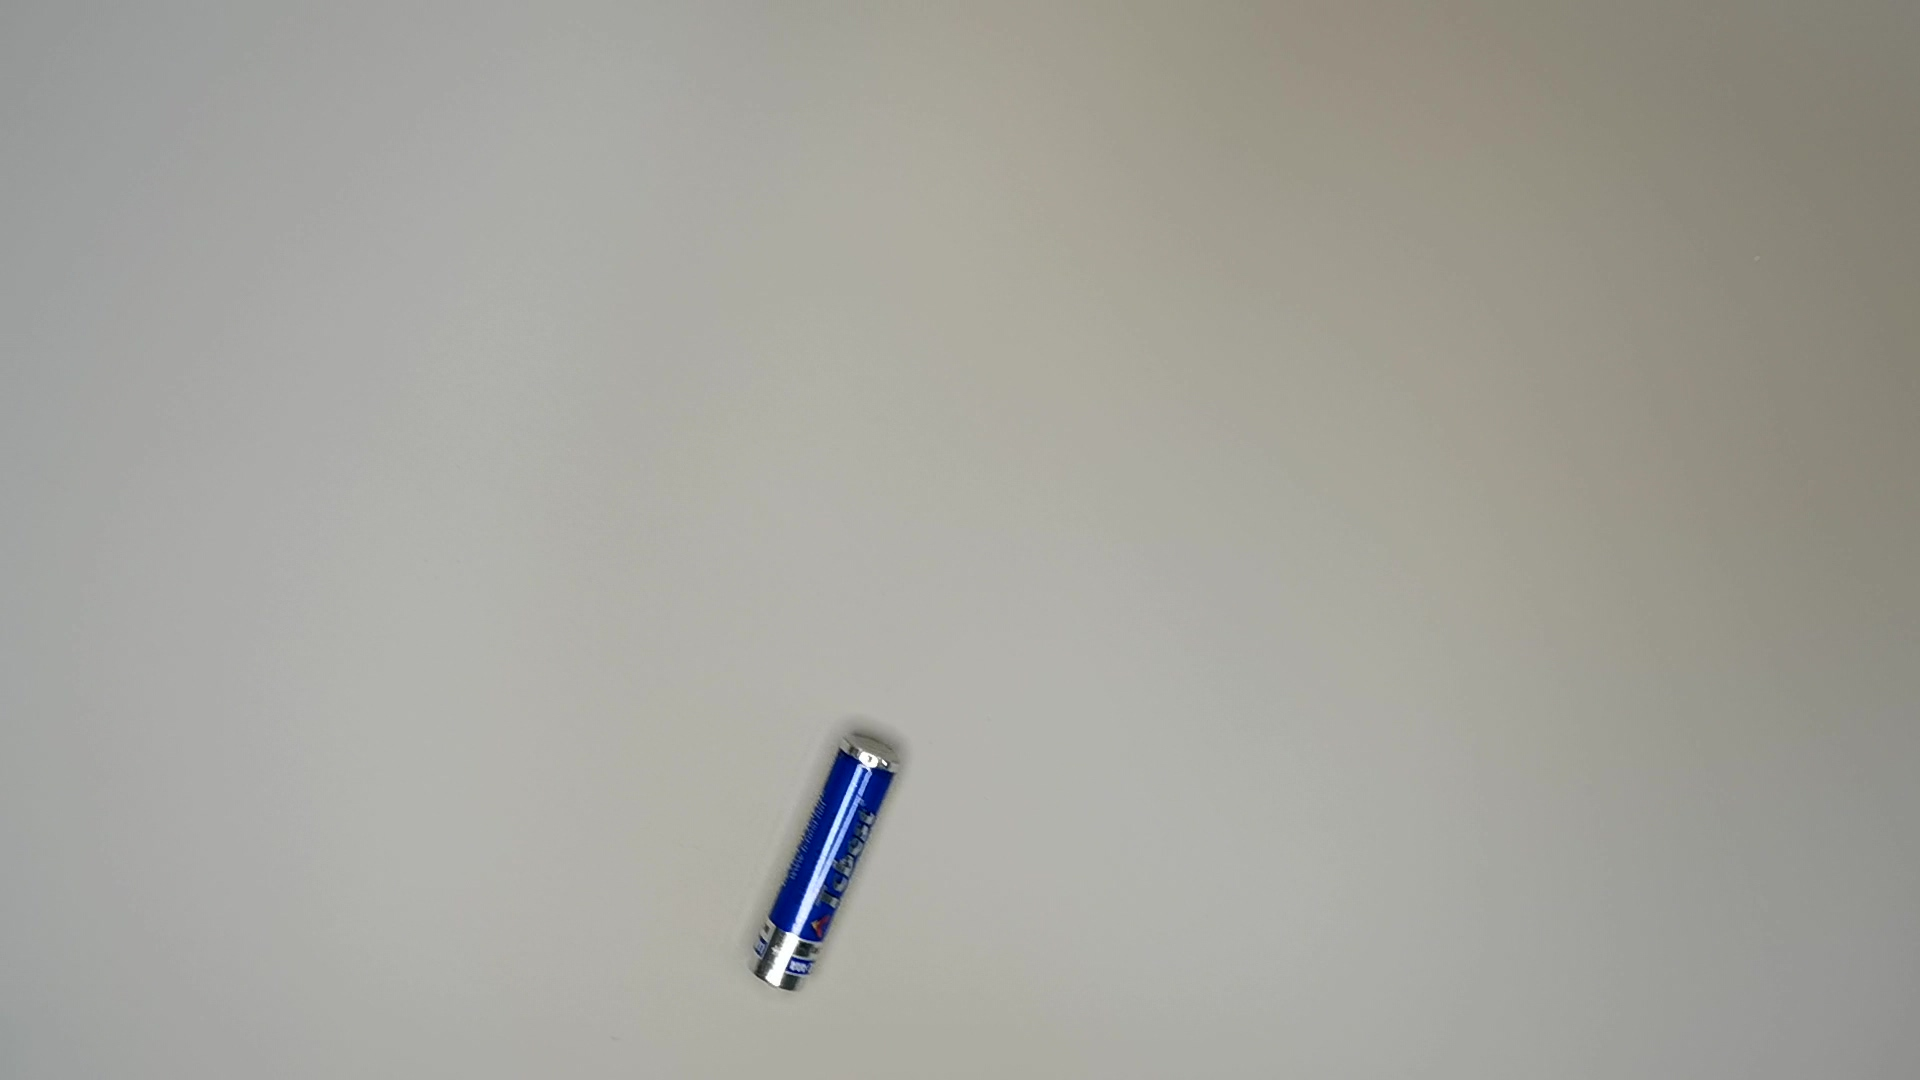battery: (737, 723, 914, 1005)
